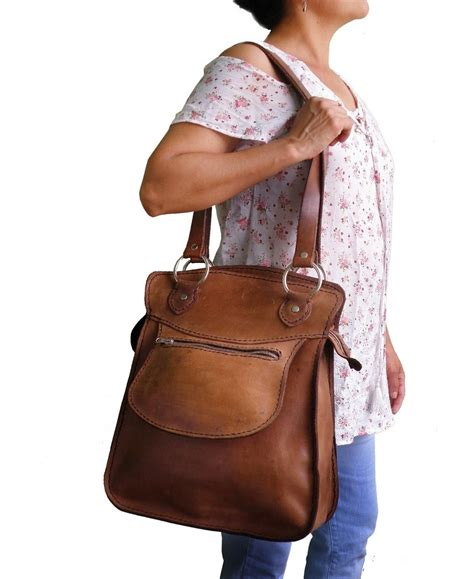cuero: (102, 41, 363, 544)
